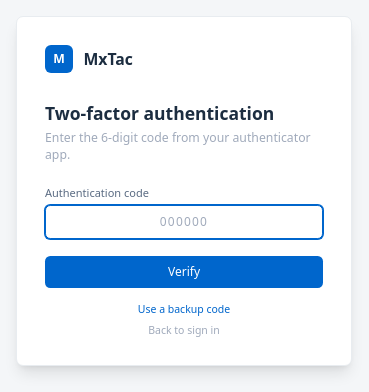
it: LoginPage › MFA backup code toggle › shows "Use authenticator app instead" after switching to backup mode
This screenshot has width=369, height=392.
Click the button "Use a backup code" at [184, 309], box [138,302,230,316]
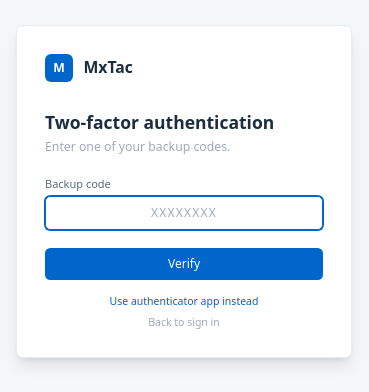
Expected: the button "Use authenticator app instead" is shown, [110,294,258,308]
